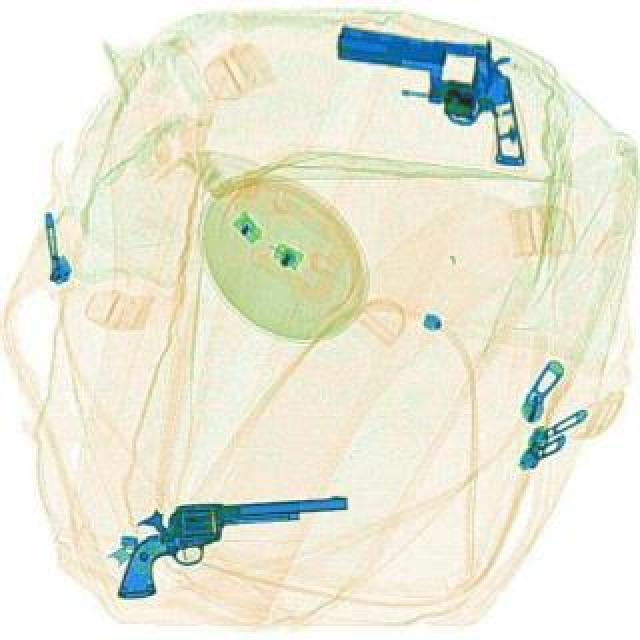gun: (316, 16, 544, 166), (110, 494, 352, 598)
